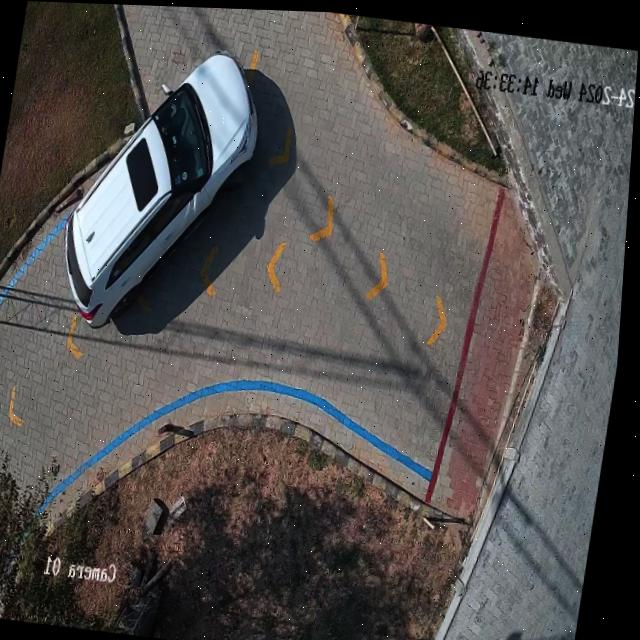car: (66, 50, 259, 324)
